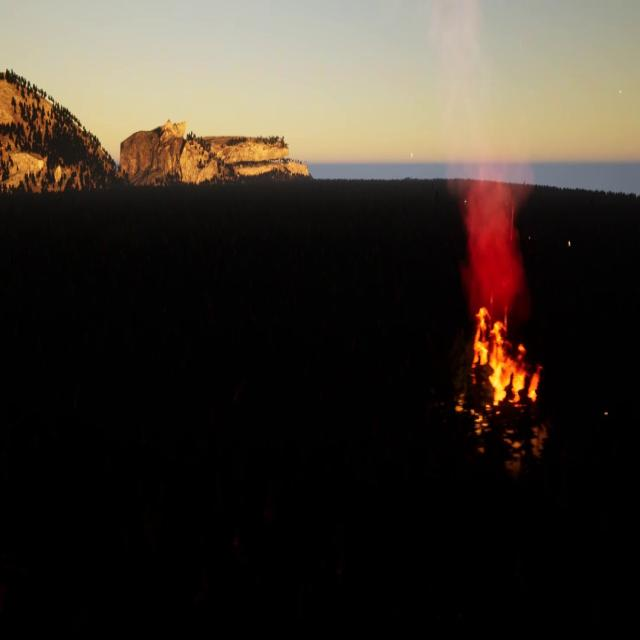fire: (469, 312, 534, 411)
smoke: (450, 160, 529, 307)
